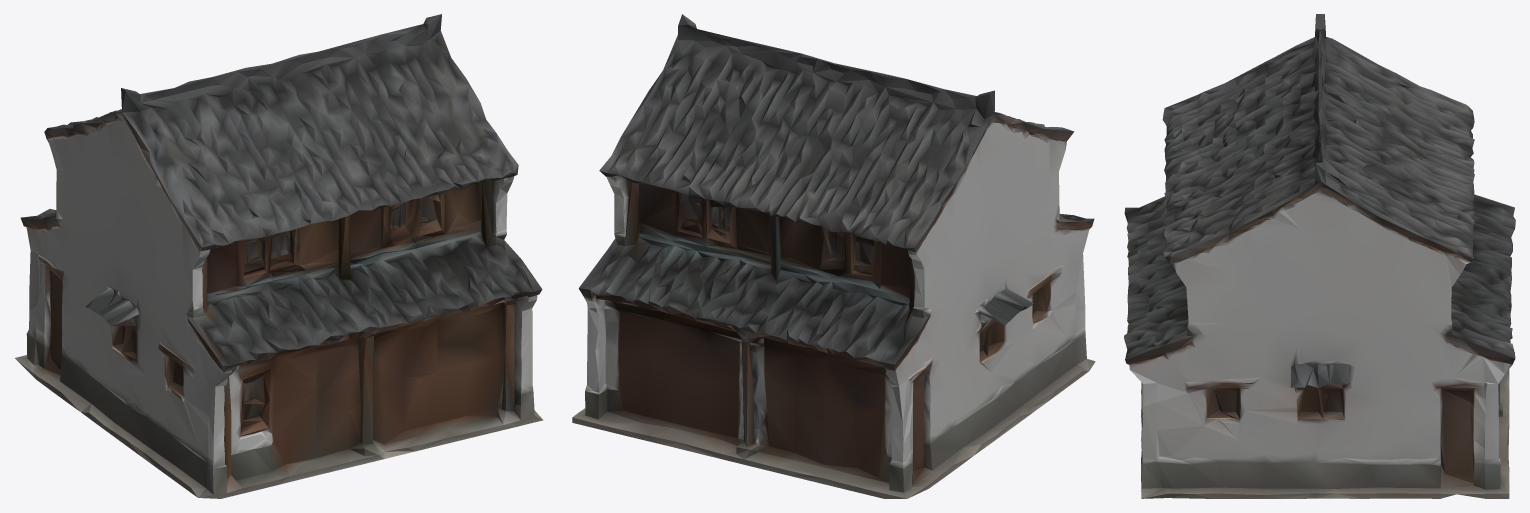
File: bq_house_2f.vc.glb
3 views of the same model, side by side, from view 1: azimuth 30°, elevation 25°; view 2: azimuth 150°, elevation 25°; view 3: azimuth 270°, elevation 25° (orthographic). The views are drawn at different scales.
Parts seen in each view (by area): view 1: bq_house_2f; view 2: bq_house_2f; view 3: bq_house_2f.
Part boxes in pixels (x1=…): bq_house_2f: x1=15, y1=14, x2=543, y2=498; bq_house_2f: x1=572, y1=14, x2=1095, y2=498; bq_house_2f: x1=1124, y1=14, x2=1515, y2=498.
Bounding box in the file's own units: 1.9 × 1.68 × 1.81.
